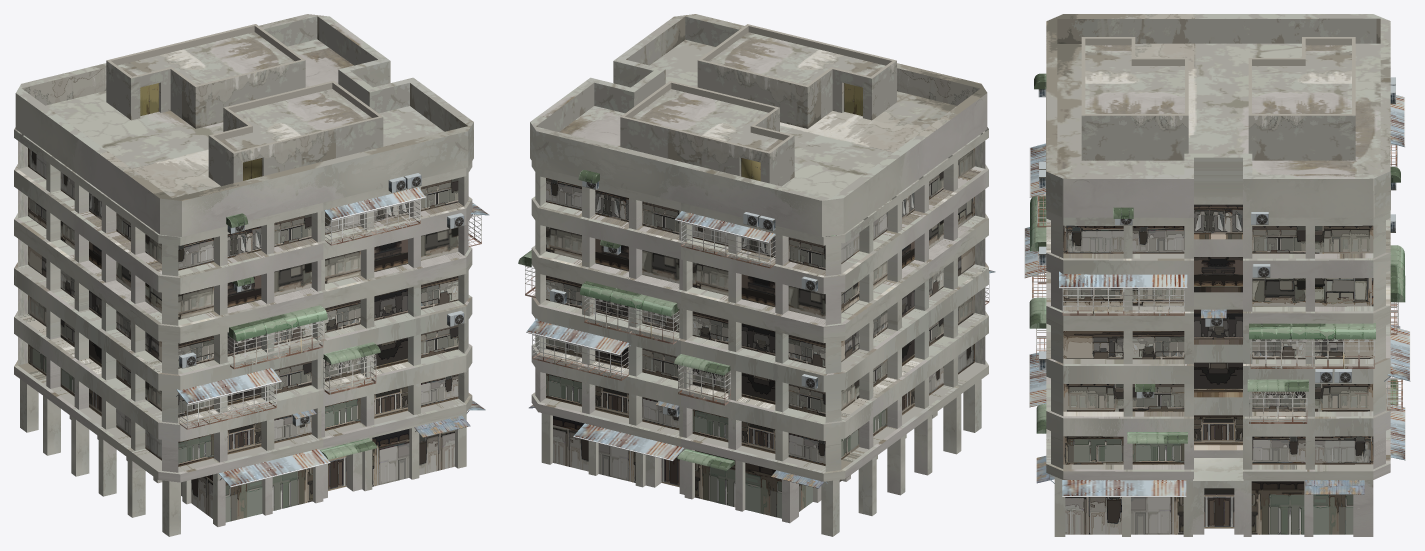
3 renders of one model, left to right at view 1: azimuth 30°, elevation 25°; view 2: azimuth 150°, elevation 25°; view 3: azimuth 270°, elevation 25°, orthographic. The views are drawn at different scales.
Visible parts, largest first — view 1: apartment_02_fine, polySurface3488, polySurface3490, polySurface3489, pPlane201_2, group26_2, pPlane197_2, pPlane200_2, pCube116_2, pPlane199_2, pCube121_2; view 2: apartment_02_fine, polySurface3488, polySurface3489, polySurface3490, pPlane201, group26, pPlane197, pPlane200, pCube116, pCube121; view 3: apartment_02_fine, polySurface3488, polySurface3489, polySurface3490, group26_3, pPlane197_3, pPlane200_3, pCube116_3, pPlane201, group26, group26_2, pPlane197_2 (+7 smaller).
Part boxes in pixels (<box>): apartment_02_fine: <box>14,127,472,536</box>; polySurface3488: <box>15,14,473,236</box>; polySurface3490: <box>106,24,305,128</box>; polySurface3489: <box>208,80,383,186</box>; pPlane201_2: <box>176,368,281,429</box>; group26_2: <box>227,305,327,369</box>; pPlane197_2: <box>324,187,425,245</box>; pPlane200_2: <box>218,449,330,487</box>; pCube116_2: <box>323,342,380,394</box>; pPlane199_2: <box>414,415,470,437</box>; pCube121_2: <box>320,438,376,459</box>; apartment_02_fine: <box>531,127,988,536</box>; polySurface3488: <box>530,14,987,236</box>; polySurface3489: <box>697,24,896,128</box>; polySurface3490: <box>620,81,794,186</box>; pPlane201: <box>526,318,630,380</box>; group26: <box>580,281,679,344</box>; pPlane197: <box>675,211,775,268</box>; pPlane200: <box>573,423,683,461</box>; pCube116: <box>674,354,730,405</box>; pCube121: <box>677,449,734,470</box>; apartment_02_fine: <box>1046,196,1390,536</box>; polySurface3488: <box>1046,14,1390,217</box>; polySurface3489: <box>1081,37,1188,160</box>; polySurface3490: <box>1248,37,1355,160</box>; group26_3: <box>1249,323,1375,368</box>; pPlane197_3: <box>1059,271,1187,315</box>; pPlane200_3: <box>1062,480,1186,496</box>; pCube116_3: <box>1247,379,1308,423</box>; pPlane201: <box>1384,326,1410,410</box>; group26: <box>1390,245,1404,334</box>; group26_2: <box>1030,196,1046,283</box>; pPlane197_2: <box>1029,143,1050,227</box>.
Size of the model in its own units: 169 by 175 by 160.
Materials: 53 (53 with a texture image).
